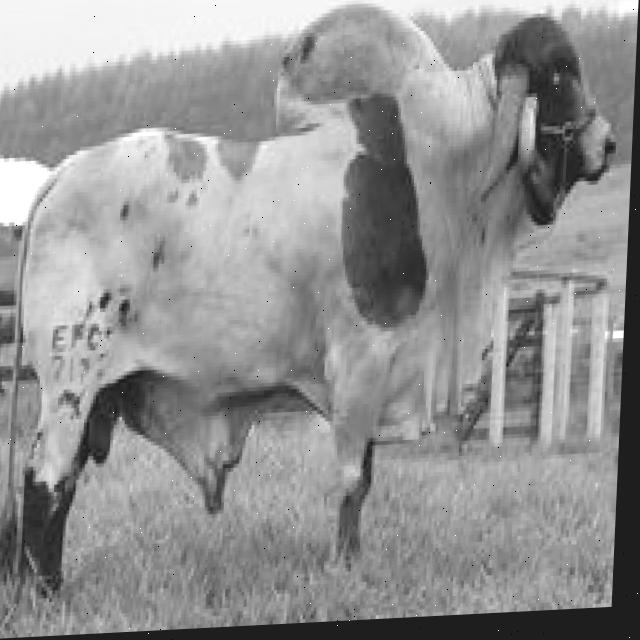Cow: (28, 15, 590, 566)
